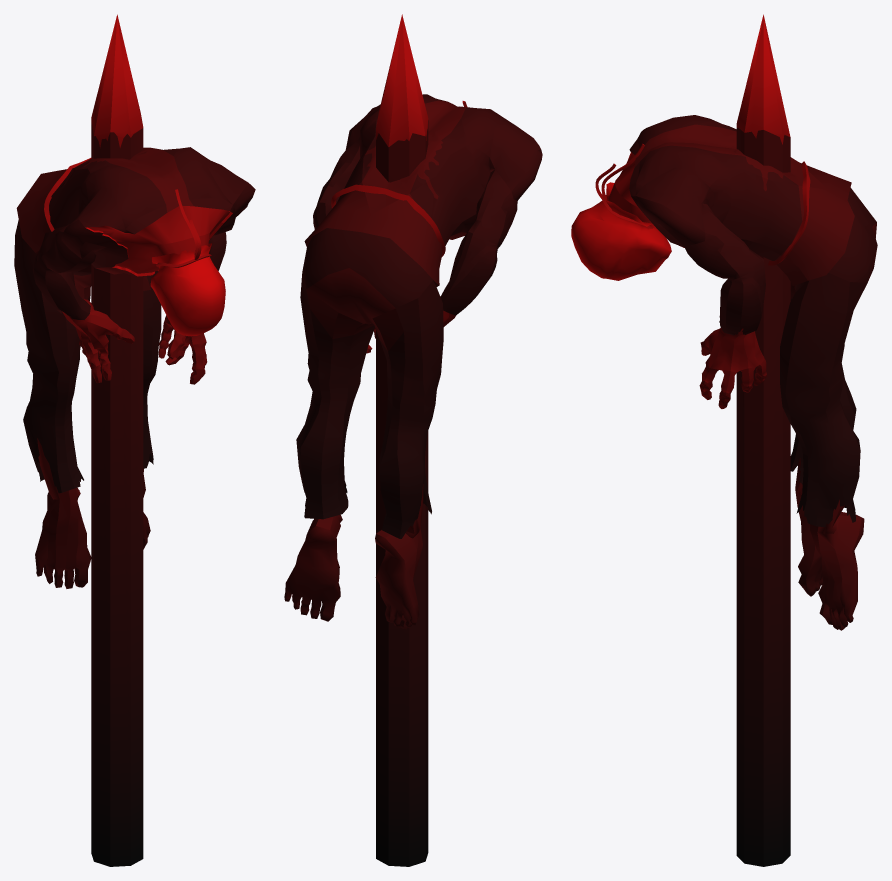
The model's file is DeadFarmer_Pike_01.fbx.
The picture shows the model from 3 angles, left to right: view 1: azimuth 30°, elevation 25°; view 2: azimuth 150°, elevation 25°; view 3: azimuth 270°, elevation 25°; orthographic projection.
Visible parts, largest first — view 1: farmer_death_01; view 2: farmer_death_01; view 3: farmer_death_01.
Boxes of the visible parts, x1,y1,x2,y2 form: farmer_death_01: (14,14,255,866); farmer_death_01: (284,14,542,866); farmer_death_01: (571,14,877,866).
Size of the model in its own units: 81.38 by 344 by 113.
